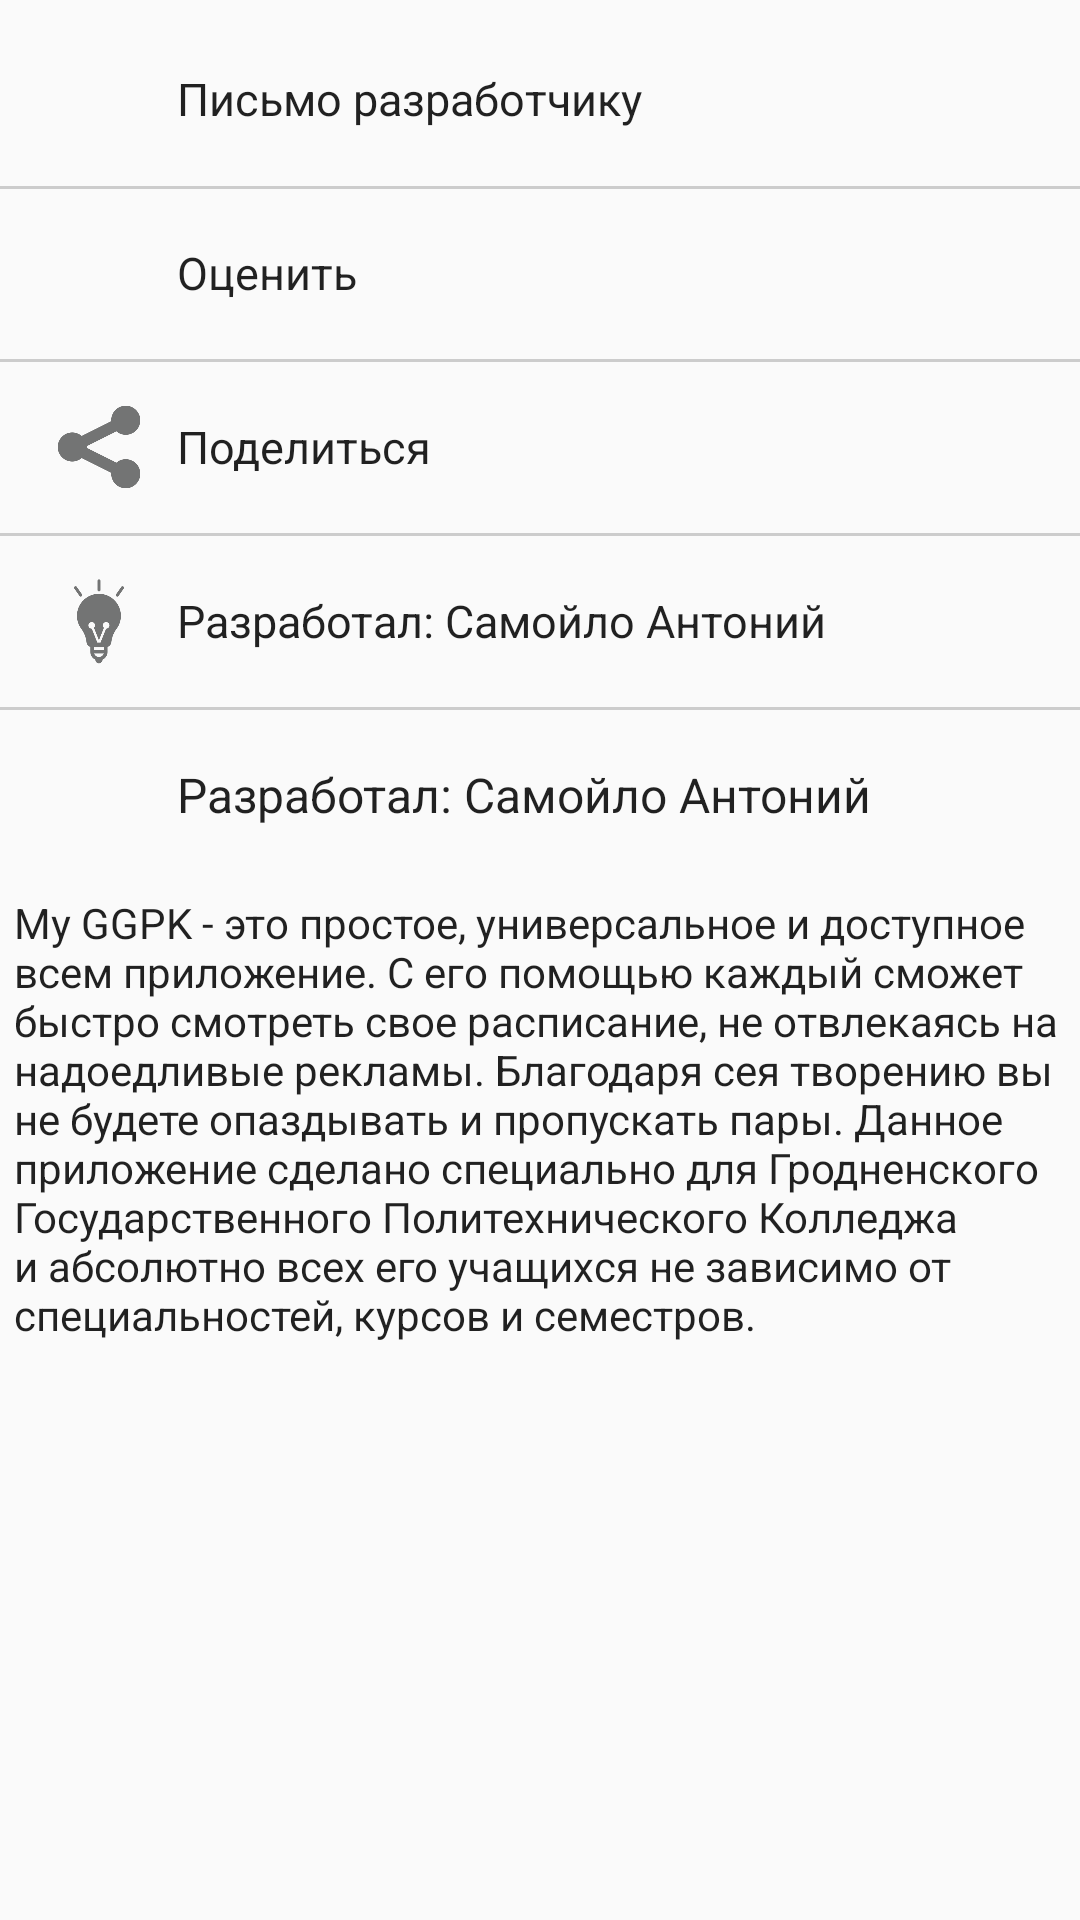

Screen size 1080x1920. Icon name, then its box in pixels as box=[x1, y1, x2, y2]:
dev lamp: box=[74, 579, 124, 664]
dev share: box=[58, 406, 140, 488]
